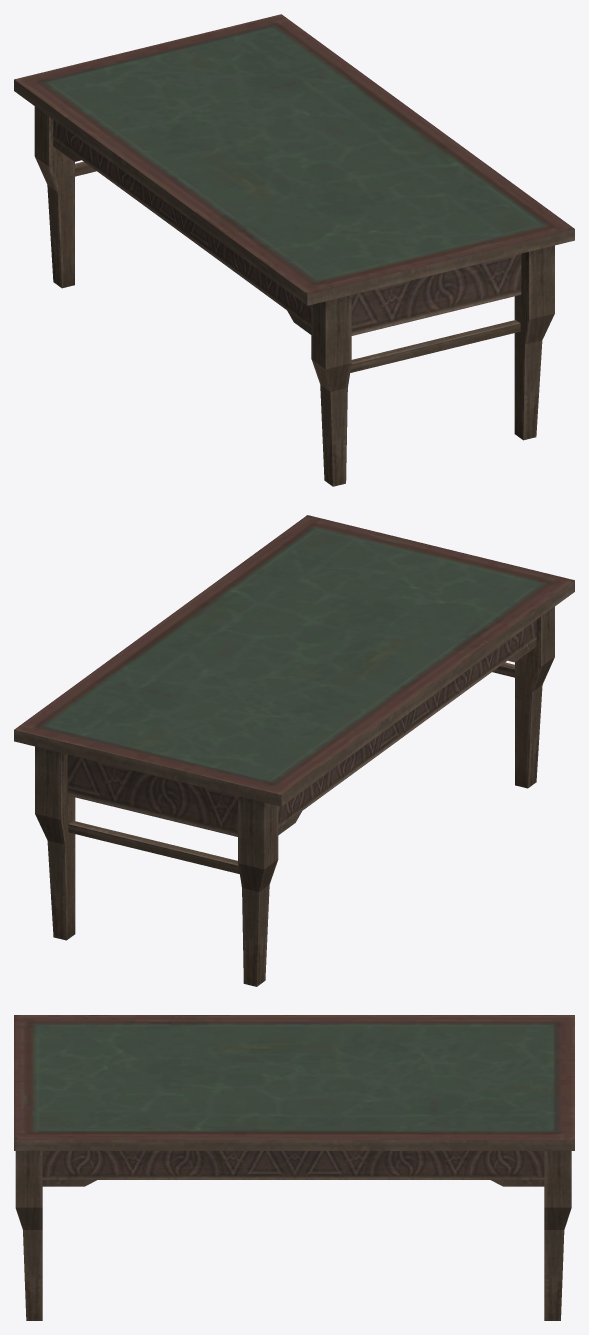
The model's file is bg_lut_lucastle_table06_sm_artree.FBX.
The picture shows the model from 3 angles, top to bottom: view 1: azimuth 30°, elevation 25°; view 2: azimuth 150°, elevation 25°; view 3: azimuth 270°, elevation 25°; orthographic projection. The views are drawn at different scales.
Visible parts, largest first — view 1: bg_lut_lucastle_table06_sm_artree; view 2: bg_lut_lucastle_table06_sm_artree; view 3: bg_lut_lucastle_table06_sm_artree.
Part boxes in pixels (x1,y1,x2,y2): bg_lut_lucastle_table06_sm_artree: (14,14,574,486); bg_lut_lucastle_table06_sm_artree: (14,515,574,986); bg_lut_lucastle_table06_sm_artree: (14,1015,574,1320).
Size of the model in its own units: 99.01 by 72.53 by 188.
